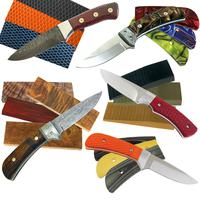knife: (6, 86, 103, 188), (5, 1, 122, 65), (95, 68, 200, 138), (74, 6, 184, 72), (82, 132, 197, 189)
